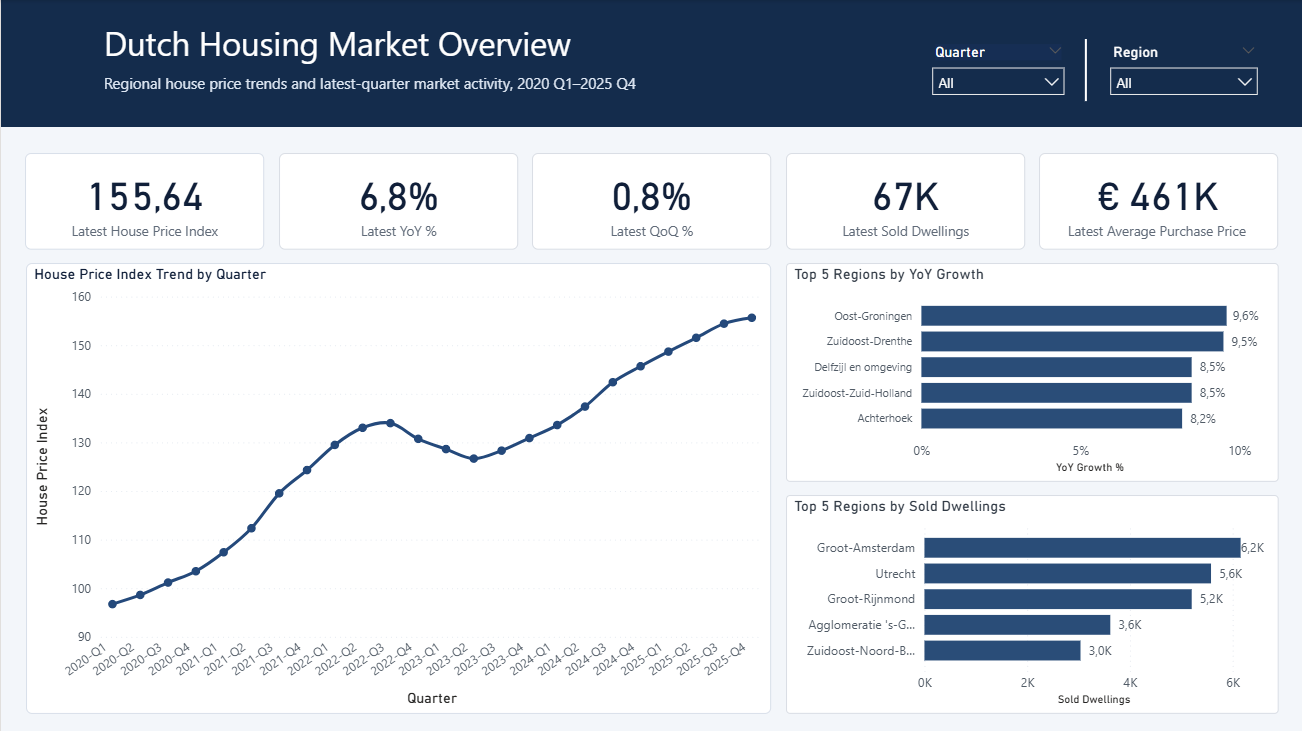

The dashboard page shown, as its layout file describes it:
{"tool":"powerbi","page":{"name":"Housing Market Overview","canvas":[1280,720],"ordinal":0},"visuals":[{"type":"shape","box":[0,0,1280,124.8],"z":0},{"type":"card","fields":{"Values":["fact_housing_market.Latest QoQ %"]},"box":[522,150,235,95],"z":1000},{"type":"card","fields":{"Values":["fact_housing_market.Latest Average Purchase Price"]},"box":[1020,150,235,95],"z":2000},{"type":"card","fields":{"Values":["fact_housing_market.Latest Sold Dwellings"]},"box":[771,150,235,95],"z":3000},{"type":"card","fields":{"Values":["fact_housing_market.Latest YoY %"]},"box":[273,150,235,95],"z":4000},{"type":"card","fields":{"Values":["fact_housing_market.Latest House Price Index"]},"box":[24,150,235,95],"z":5000},{"type":"lineChart","title":"House Price Index Trend by Quarter","fields":{"Category":["dim_date.year_quarter"],"Y":["fact_housing_market.Average House Price Index"]},"box":[24.8,258.3,731.9,443.2],"z":6000},{"type":"clusteredBarChart","title":"Top 5 Regions by YoY Growth","fields":{"Category":["dim_region.region_name"],"Y":["fact_housing_market.Latest YoY %"]},"box":[771.1,258.4,484.3,215.1],"z":7000},{"type":"clusteredBarChart","title":"Top 5 Regions by Sold Dwellings","fields":{"Y":["fact_housing_market.Latest Sold Dwellings"],"Category":["dim_region.region_name"]},"box":[771.1,486.3,484.3,215.1],"z":8000},{"type":"textbox","box":[95.8,14.4,619.9,71.9],"z":9000},{"type":"textbox","box":[95.8,67.1,700.4,38.3],"z":10000},{"type":"slicer","fields":{"Values":["dim_date.year_quarter"]},"box":[905,38,150,58],"z":11000},{"type":"slicer","fields":{"Values":["dim_region.region_name"]},"box":[1080,38,165,58],"z":12000},{"type":"shape","box":[1003.1,38.3,125.5,61.3],"z":13001}]}

Visuals, with their boxes in screenshot pixels (x1, y1, x2, y2), scaled from the page's 1280x720 canvas onto the 1302x731 screenshot:
shape: region(0, 0, 1301, 127)
card - fact_housing_market.Latest QoQ %: region(531, 152, 770, 249)
card - fact_housing_market.Latest Average Purchase Price: region(1038, 152, 1277, 249)
card - fact_housing_market.Latest Sold Dwellings: region(784, 152, 1023, 249)
card - fact_housing_market.Latest YoY %: region(278, 152, 517, 249)
card - fact_housing_market.Latest House Price Index: region(24, 152, 263, 249)
"House Price Index Trend by Quarter" lineChart: region(25, 262, 770, 712)
"Top 5 Regions by YoY Growth" clusteredBarChart: region(784, 262, 1277, 481)
"Top 5 Regions by Sold Dwellings" clusteredBarChart: region(784, 494, 1277, 712)
textbox: region(97, 15, 728, 88)
textbox: region(97, 68, 810, 107)
slicer - dim_date.year_quarter: region(921, 39, 1073, 97)
slicer - dim_region.region_name: region(1099, 39, 1266, 97)
shape: region(1020, 39, 1148, 101)
